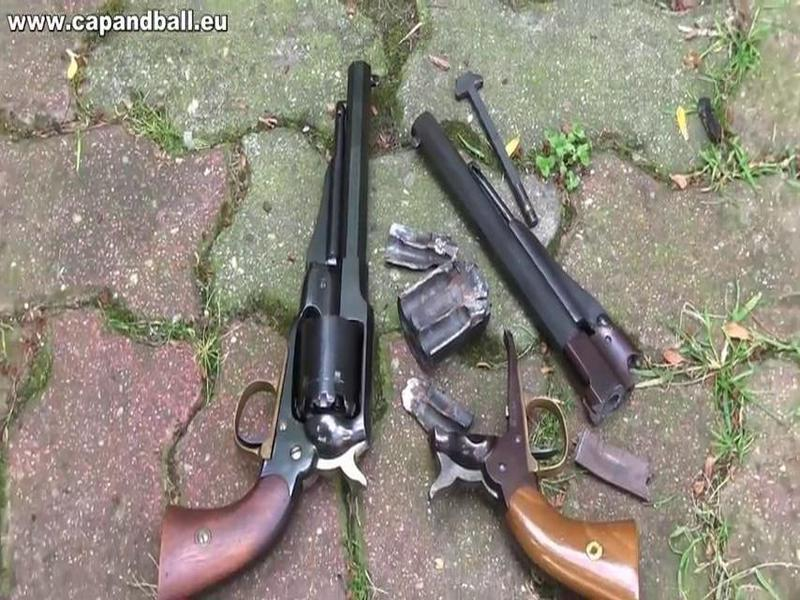Revolver: (209, 54, 384, 575)
